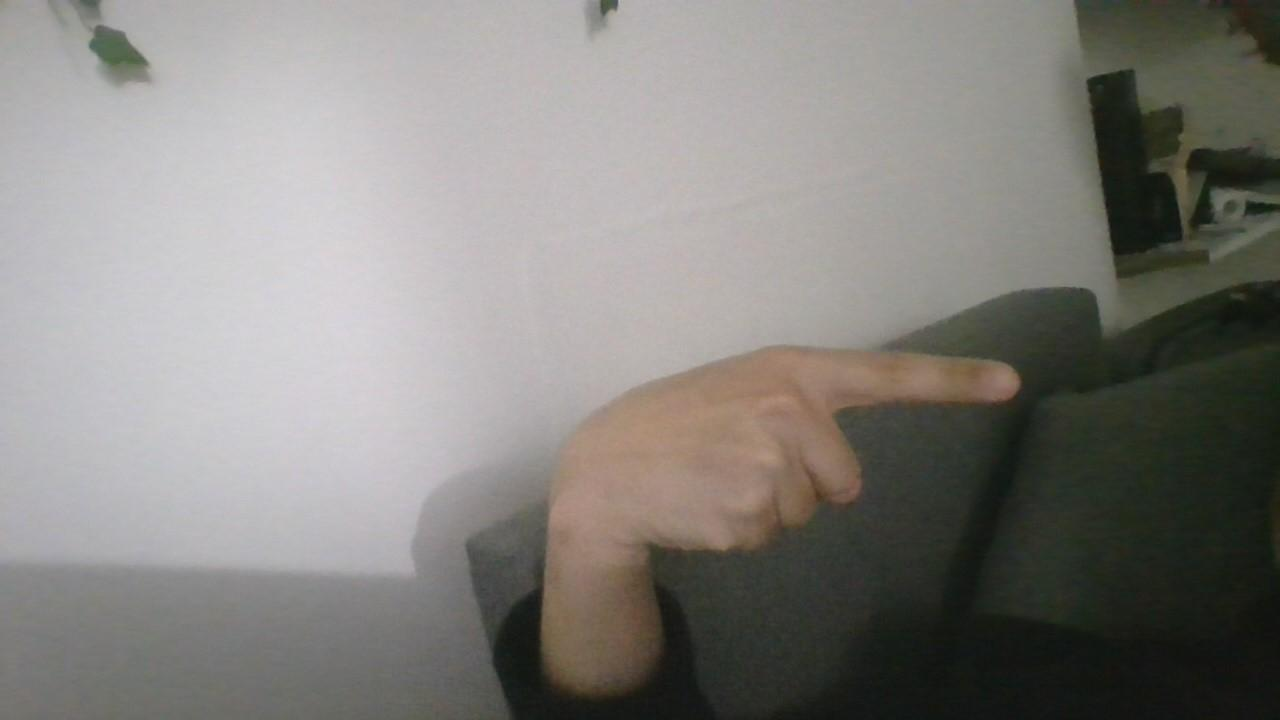right: (503, 329, 1056, 590)
